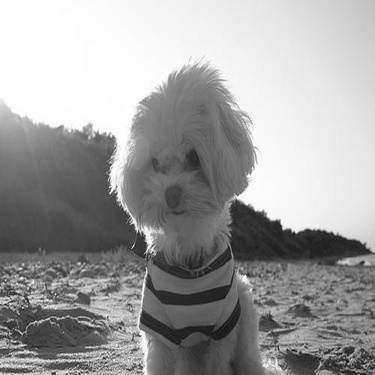dog: (93, 56, 291, 373)
